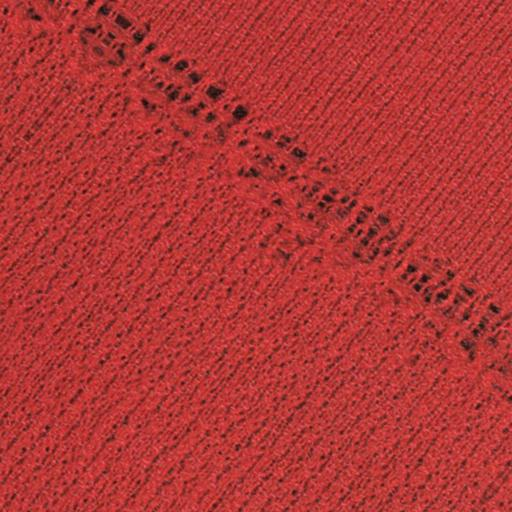slub: (20, 1, 512, 403)
